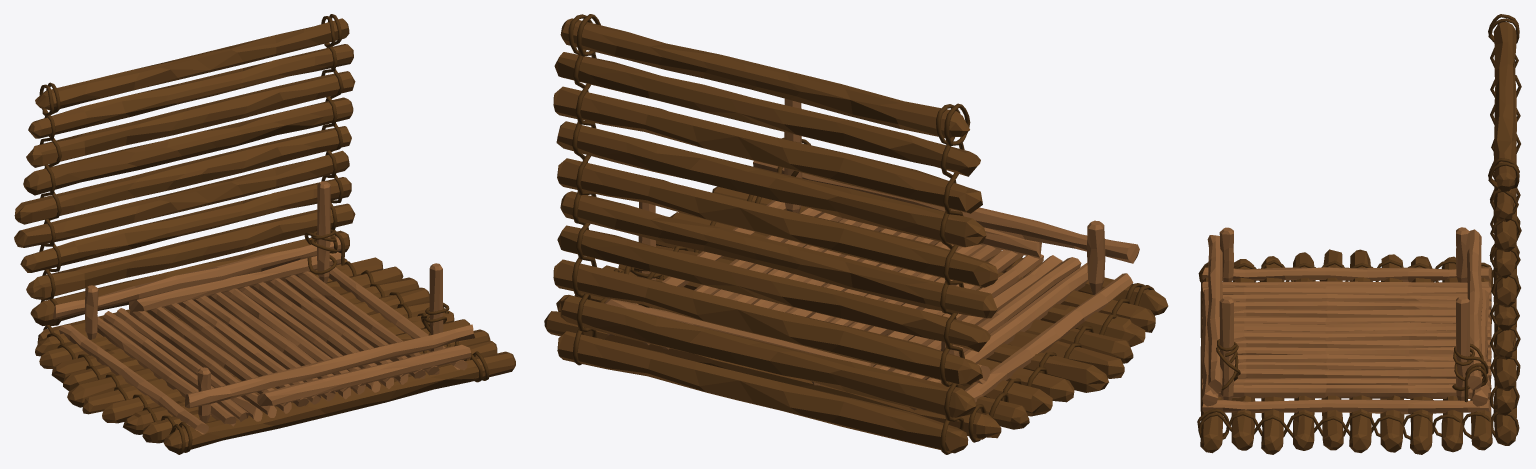
File: raft_chair.fbx
3 views of the same model, side by side, from view 1: azimuth 30°, elevation 25°; view 2: azimuth 150°, elevation 25°; view 3: azimuth 270°, elevation 25° (orthographic). The views are drawn at different scales.
Parts seen in each view (by area): view 1: alt.003, üst.002, alt.004, ip.003, ip.005, ip.006, ip.004; view 2: alt.003, üst.002, alt.004, ip.005, ip.006, ip.004, ip.003; view 3: üst.002, alt.004, alt.003, ip.003, ip.006, ip.005, ip.004.
Part boxes in pixels (left/top/right/bottom): alt.003: left=14, top=18, right=355, bottom=343; üst.002: left=53, top=181, right=474, bottom=434; alt.004: left=35, top=257, right=515, bottom=453; ip.003: left=304, top=229, right=489, bottom=382; ip.005: left=39, top=82, right=62, bottom=336; ip.006: left=321, top=14, right=343, bottom=266; ip.004: left=46, top=332, right=192, bottom=454; alt.003: left=553, top=18, right=997, bottom=453; üst.002: left=604, top=98, right=1139, bottom=417; alt.004: left=544, top=186, right=1168, bottom=439; ip.005: left=936, top=103, right=970, bottom=454; ip.006: left=568, top=14, right=600, bottom=365; ip.004: left=968, top=283, right=1155, bottom=442; ip.003: left=581, top=137, right=810, bottom=334; üst.002: left=1201, top=227, right=1491, bottom=414; alt.004: left=1200, top=249, right=1492, bottom=454; alt.003: left=1493, top=22, right=1516, bottom=445; ip.003: left=1197, top=339, right=1492, bottom=439; ip.006: left=1488, top=158, right=1521, bottom=437; ip.005: left=1488, top=14, right=1521, bottom=289; ip.004: left=1198, top=259, right=1492, bottom=282.
Bounding box in the file's own units: 449 × 304 × 319.
